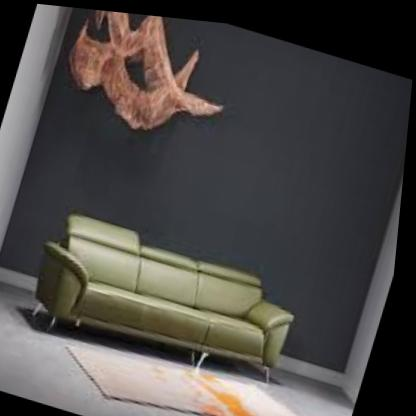Sofa: (8, 174, 343, 403)
